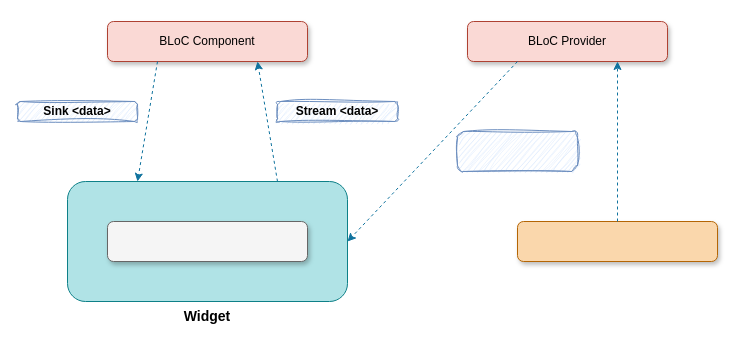
This 741x343 diagram has some shape labels left out. The centre of each missing label's shape, as x and y in pixels:
"Inherit Widget" goes at point (618, 242).
"Provides BLoC Component" goes at point (517, 151).
"StreamBuilder" goes at point (208, 242).
